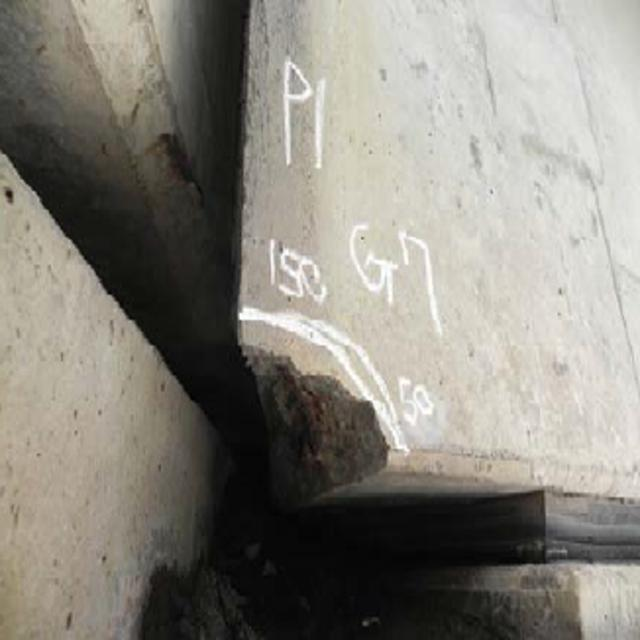spalling: (213, 298, 430, 498)
